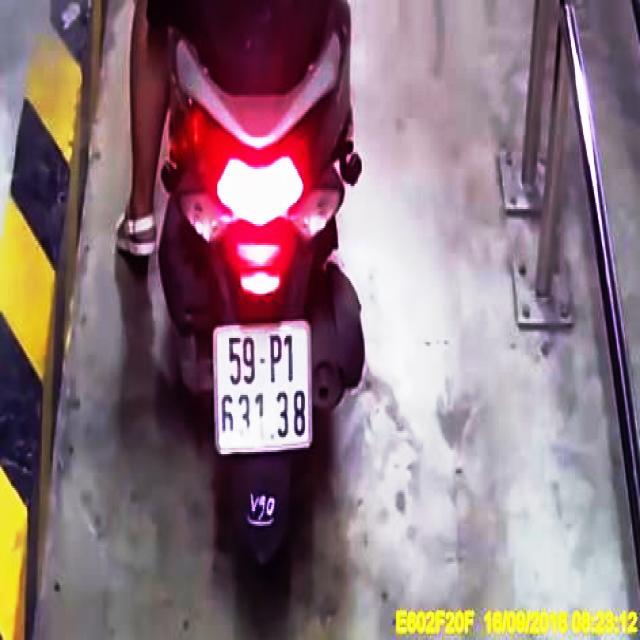license_plate: (216, 323, 311, 451)
